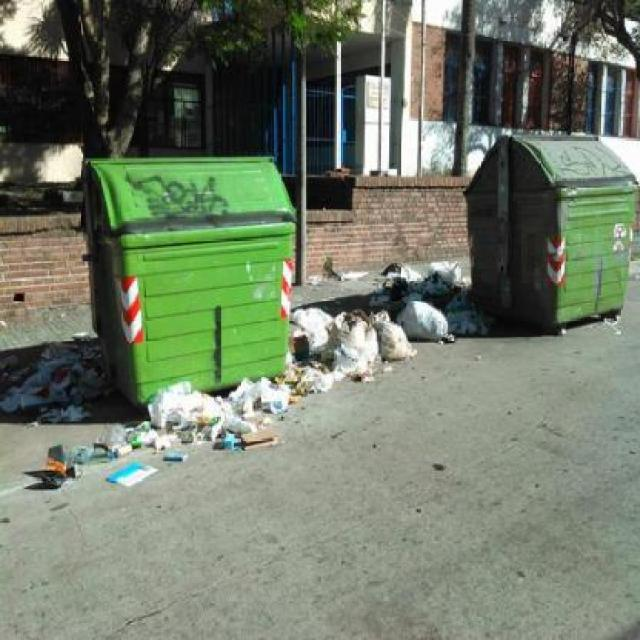garbage: (51, 374, 300, 493), (305, 242, 474, 386), (6, 351, 108, 434)
